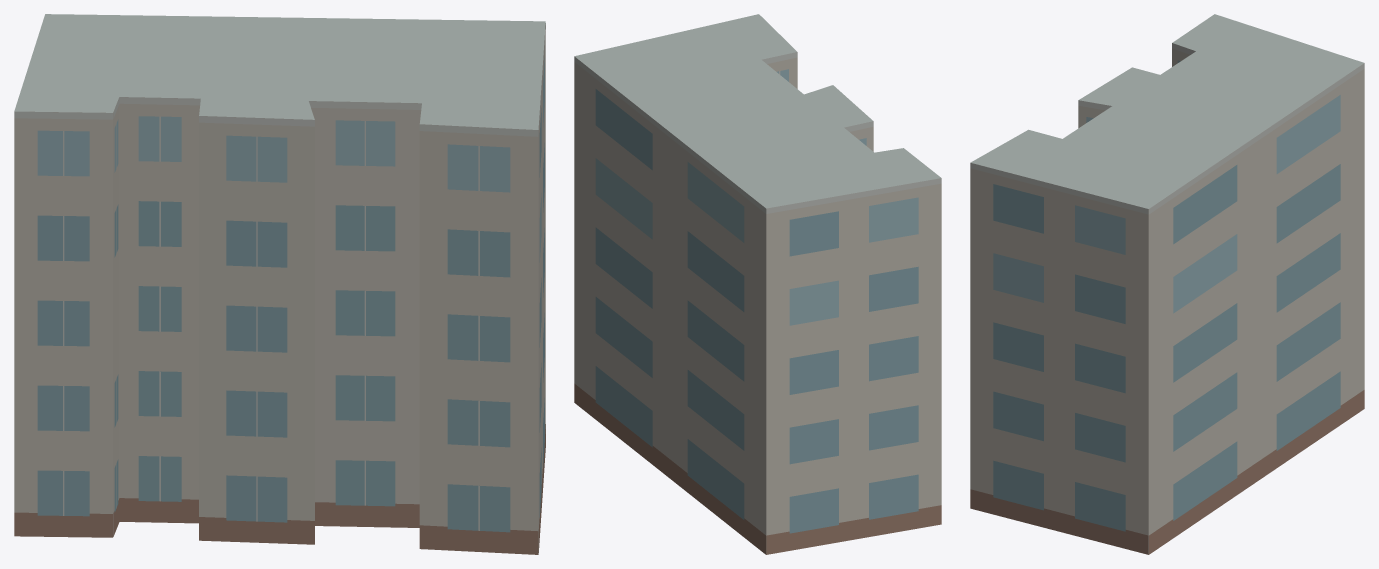
The model's file is survey-upis-32725944.glb.
3 renders of one model, left to right at view 1: azimuth 30°, elevation 25°; view 2: azimuth 150°, elevation 25°; view 3: azimuth 270°, elevation 25°, orthographic. The views are drawn at different scales.
Parts seen in each view (by area): view 1: survey-upis-32725944.tmp; view 2: survey-upis-32725944.tmp; view 3: survey-upis-32725944.tmp.
Boxes of the visible parts, x1,y1,x2,y2 form: survey-upis-32725944.tmp: [14, 14, 545, 554]; survey-upis-32725944.tmp: [574, 14, 941, 554]; survey-upis-32725944.tmp: [970, 14, 1364, 554].
Size of the model in its own units: 18.46 by 15.25 by 15.77.
